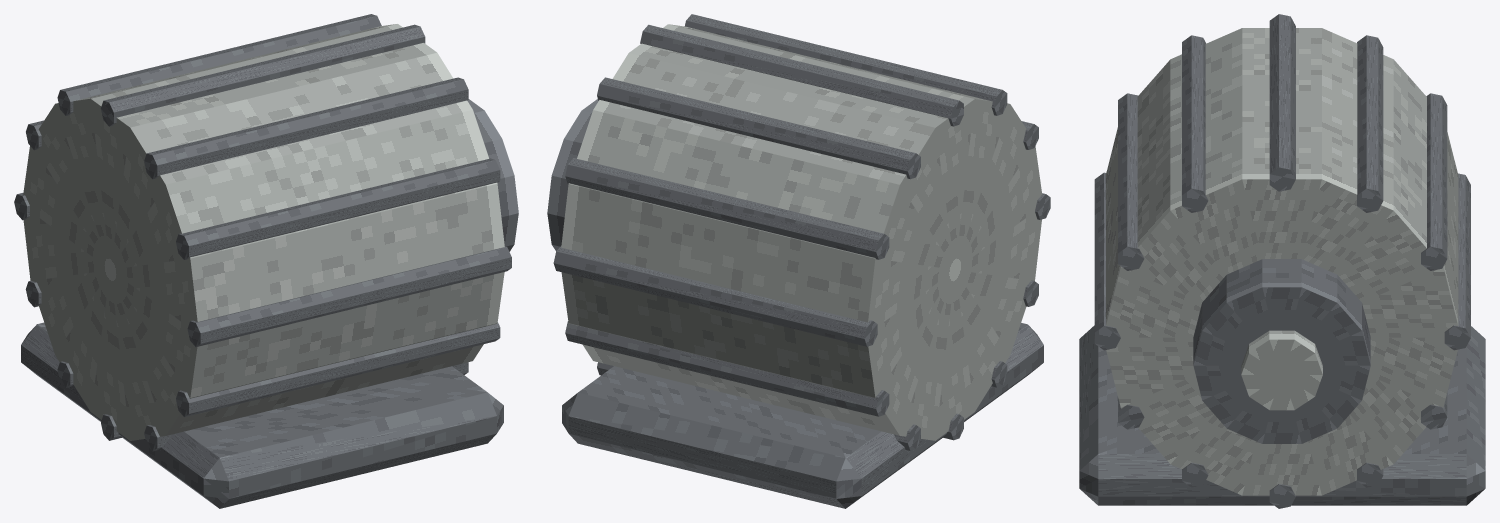
The model's file is motor_tiny.glb.
3 views of the same model, side by side, from view 1: azimuth 30°, elevation 25°; view 2: azimuth 150°, elevation 25°; view 3: azimuth 270°, elevation 25° (orthographic).
Visible parts, largest first — view 1: block_vented cast body, block_cooling rib (×7), block_mounting foot, block_drive pulley; view 2: block_vented cast body, block_cooling rib (×7), block_mounting foot, block_drive pulley; view 3: block_vented cast body, block_cooling rib (×12), block_mounting foot, block_drive pulley, block_hub centre.
Part boxes in pixels (bbox=[...]): block_vented cast body: bbox=[23, 24, 504, 440]; block_cooling rib (×7): bbox=[57, 14, 511, 451]; block_mounting foot: bbox=[21, 322, 503, 508]; block_drive pulley: bbox=[467, 99, 518, 251]; block_vented cast body: bbox=[561, 24, 1042, 440]; block_cooling rib (×7): bbox=[553, 14, 1007, 450]; block_mounting foot: bbox=[562, 323, 1043, 508]; block_drive pulley: bbox=[547, 99, 598, 251]; block_vented cast body: bbox=[1106, 28, 1458, 495]; block_cooling rib (×12): bbox=[1094, 14, 1470, 508]; block_mounting foot: bbox=[1079, 325, 1485, 505]; block_drive pulley: bbox=[1193, 259, 1370, 443]; block_hub centre: bbox=[1241, 330, 1322, 410].
Size of the model in its own units: 0.1726 by 0.1478 by 0.1558.
1 material, 1 textured.
